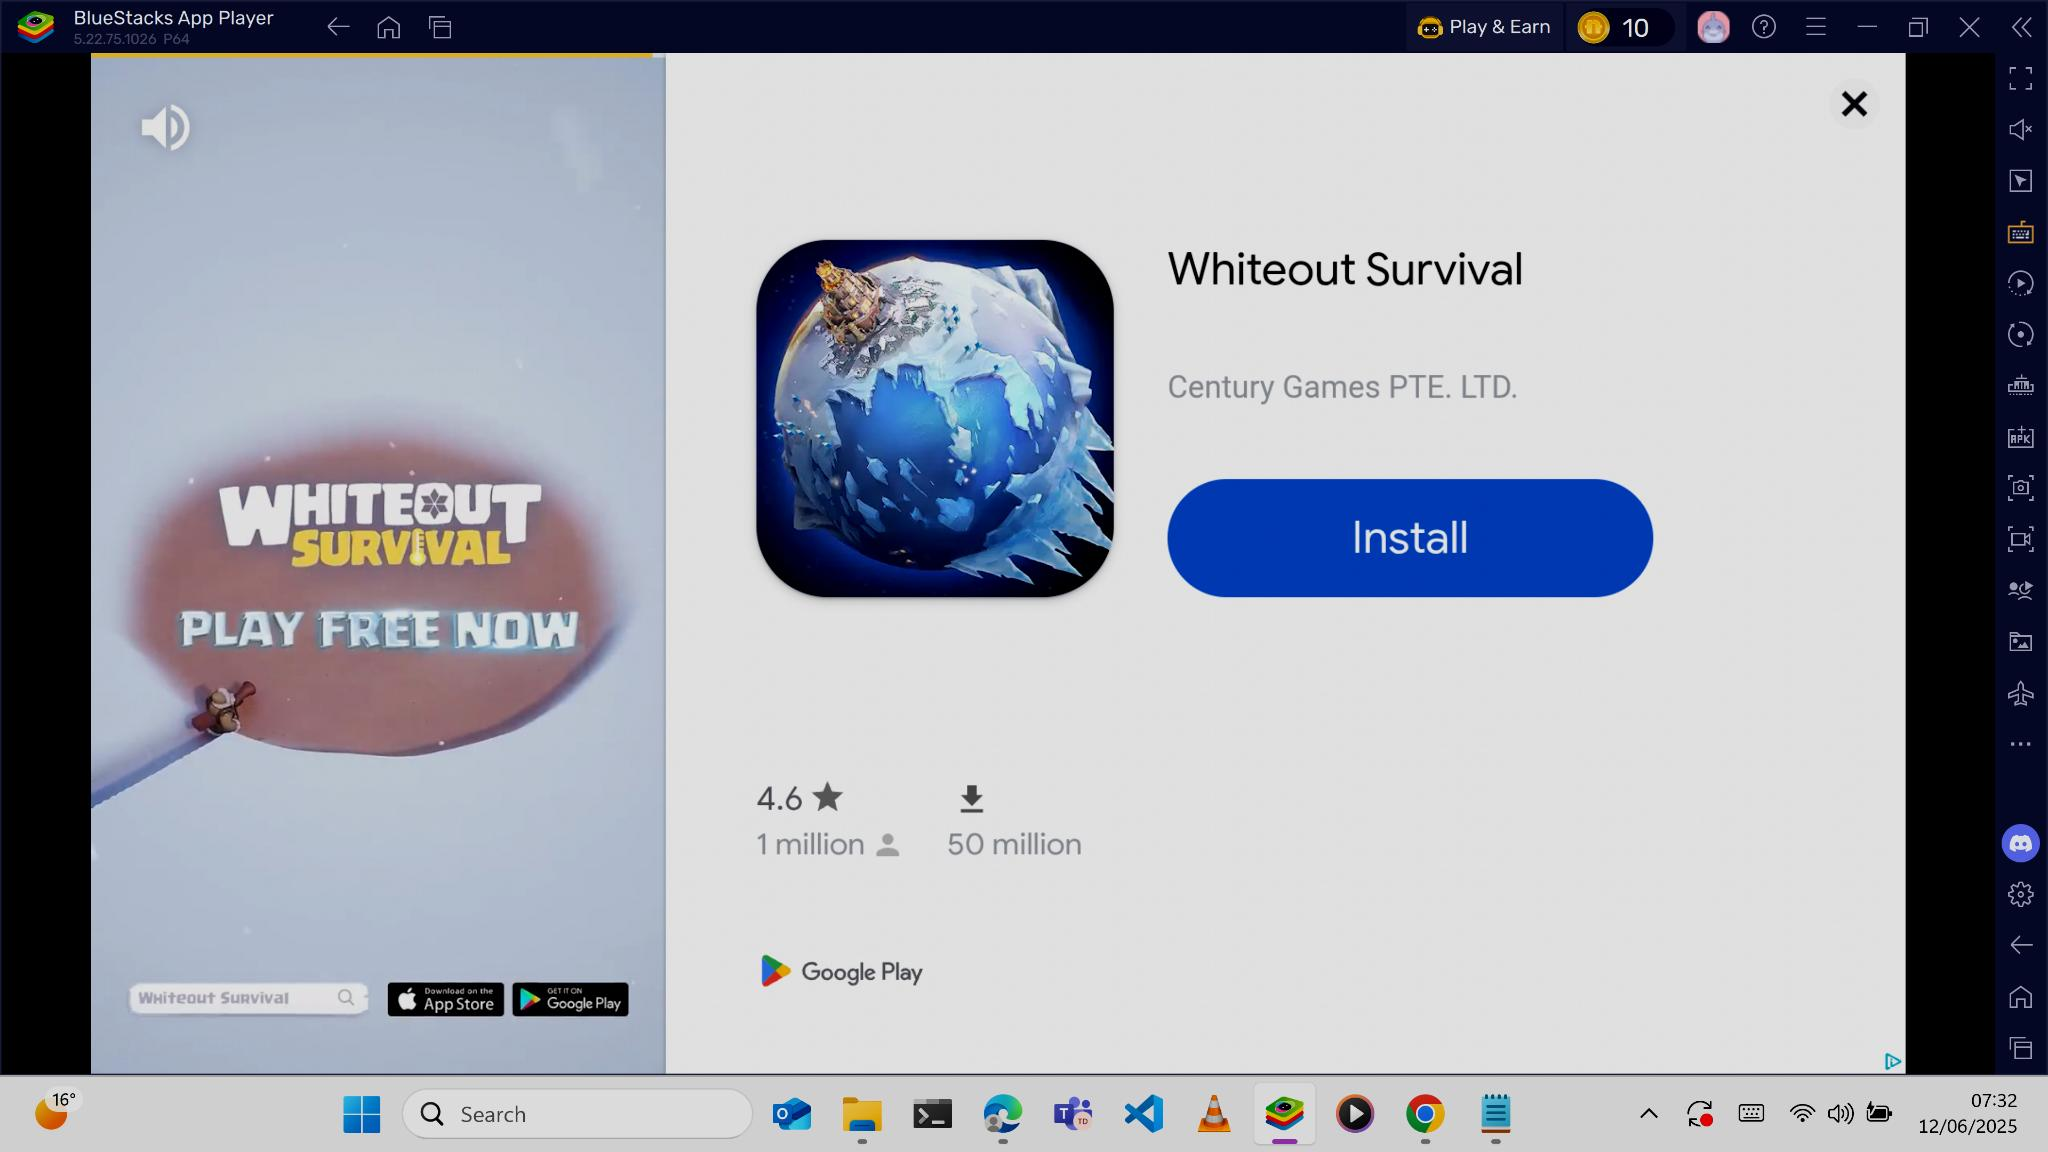close_ad: (1840, 90, 1869, 118)
